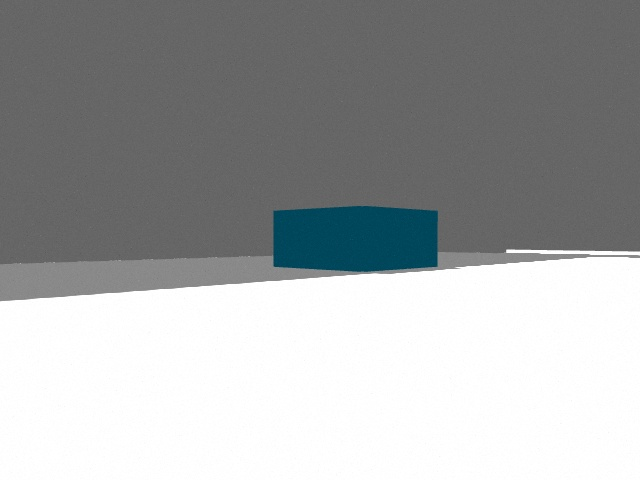blue_drop_zone: (273, 206, 438, 272)
